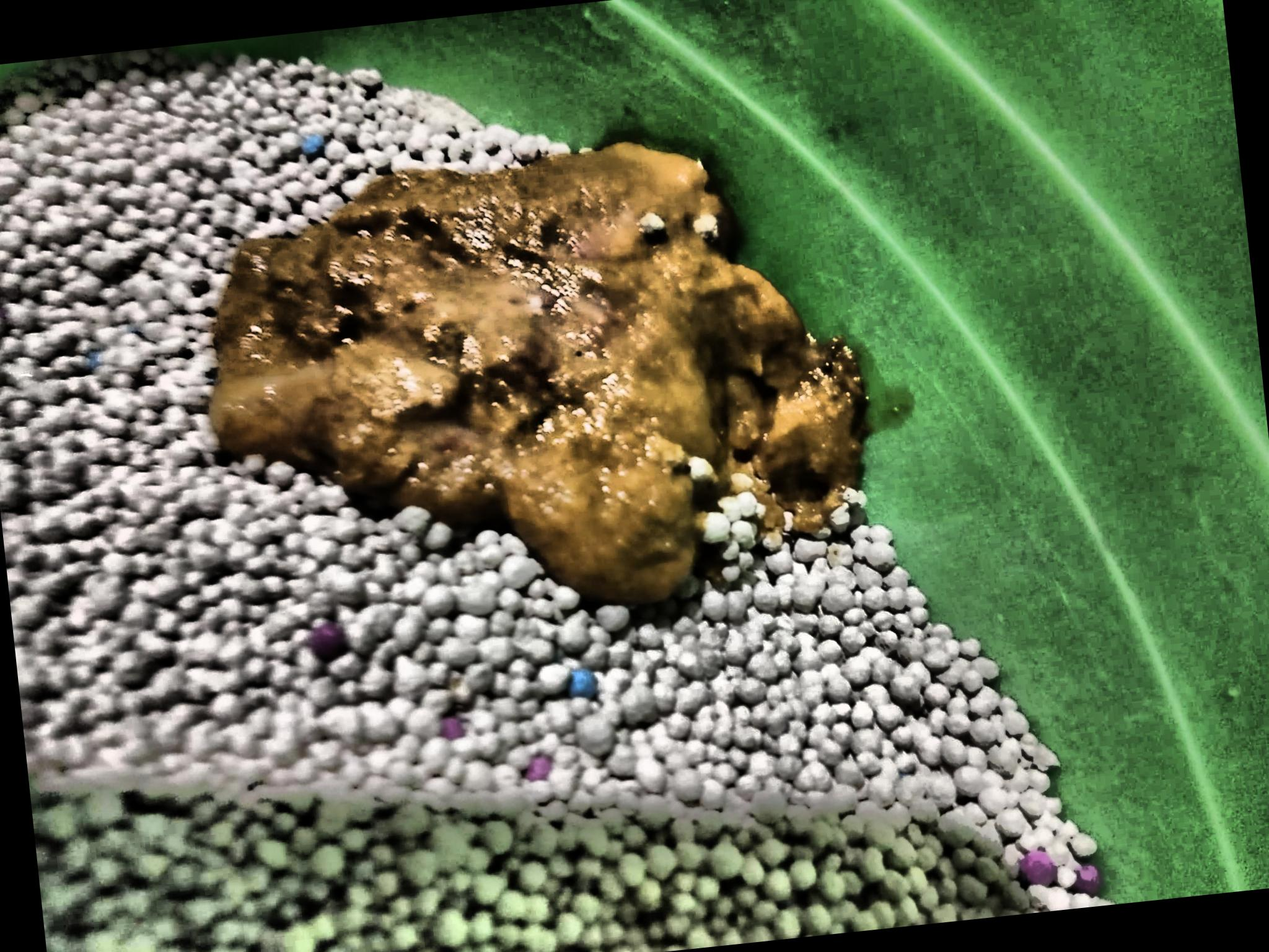poop: (210, 144, 864, 603)
